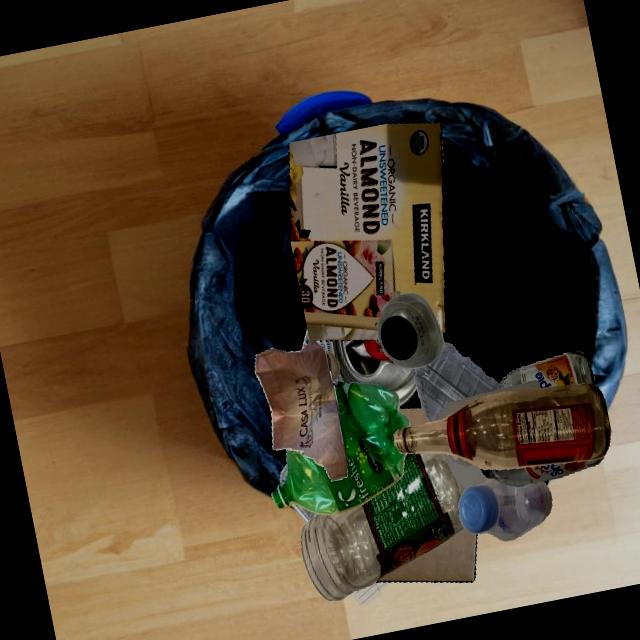cardboard: (289, 123, 448, 341)
glass: (301, 453, 466, 601), (394, 383, 611, 469), (480, 456, 604, 487), (499, 351, 595, 388), (325, 350, 340, 381), (543, 480, 549, 486)
metal: (333, 354, 417, 409), (313, 340, 392, 361)
paper: (255, 341, 348, 481), (375, 528, 477, 582), (352, 582, 391, 605)
plastic: (271, 381, 410, 515), (414, 342, 505, 422), (442, 416, 557, 478), (458, 478, 552, 541), (377, 293, 444, 369), (291, 503, 317, 522), (280, 464, 287, 485)
